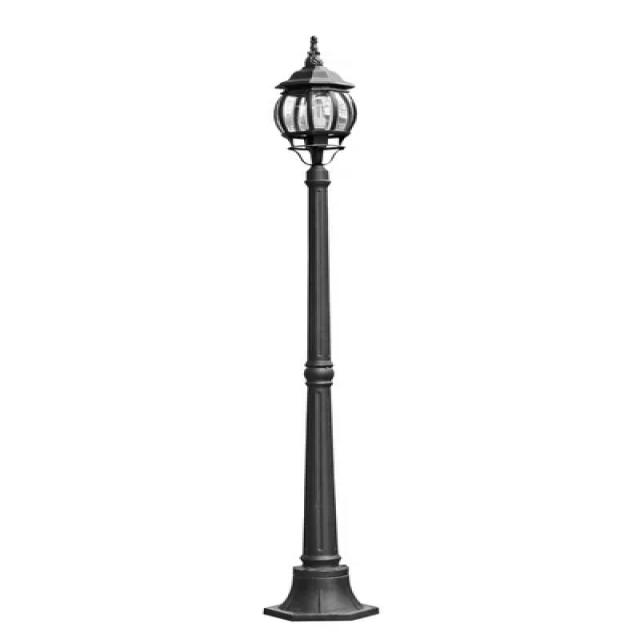Pole: (264, 36, 379, 622)
